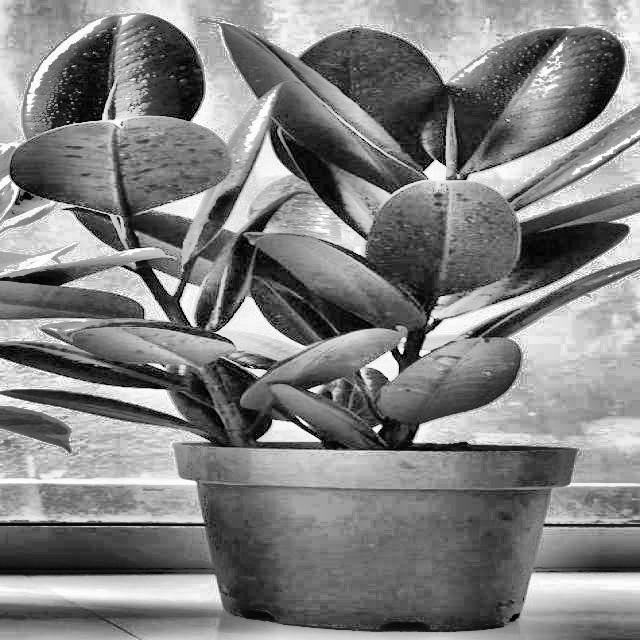plants: (46, 15, 638, 640)
